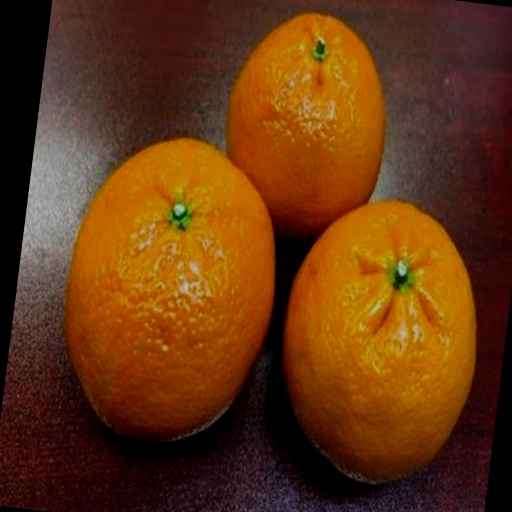fruit: (65, 139, 274, 441), (282, 202, 475, 482), (226, 13, 384, 242)
